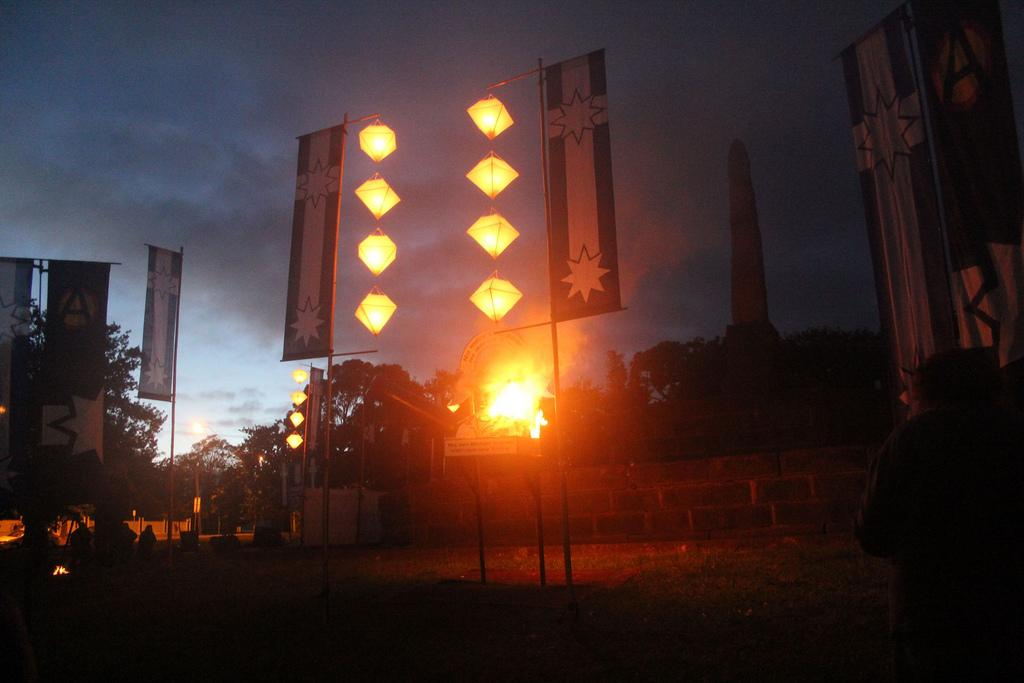fire: (482, 347, 548, 427)
